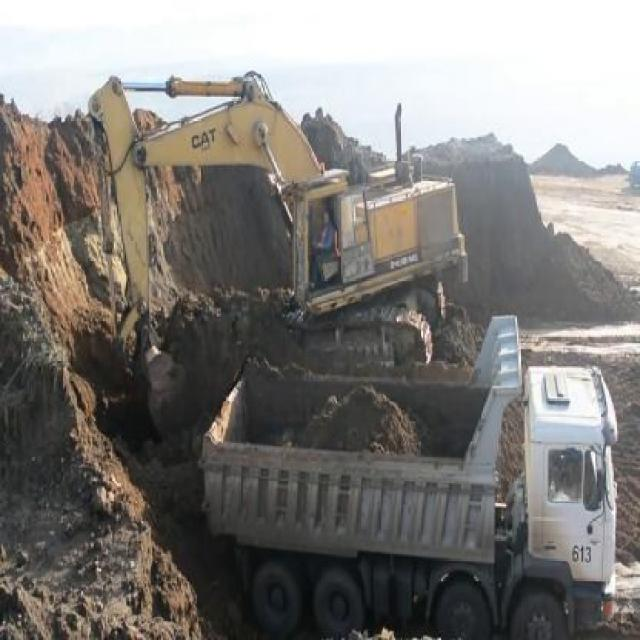Dump Truck: (199, 310, 618, 636)
Excavator: (82, 73, 475, 390)
